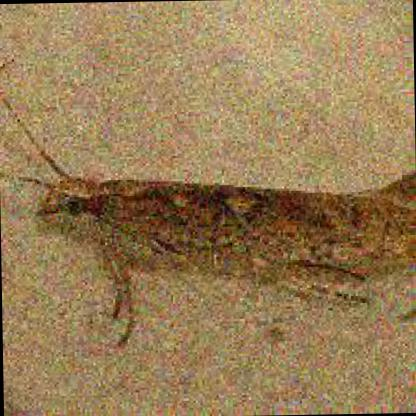plutella: (0, 94, 416, 350)
